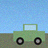vehicle: (13, 24, 45, 45)
